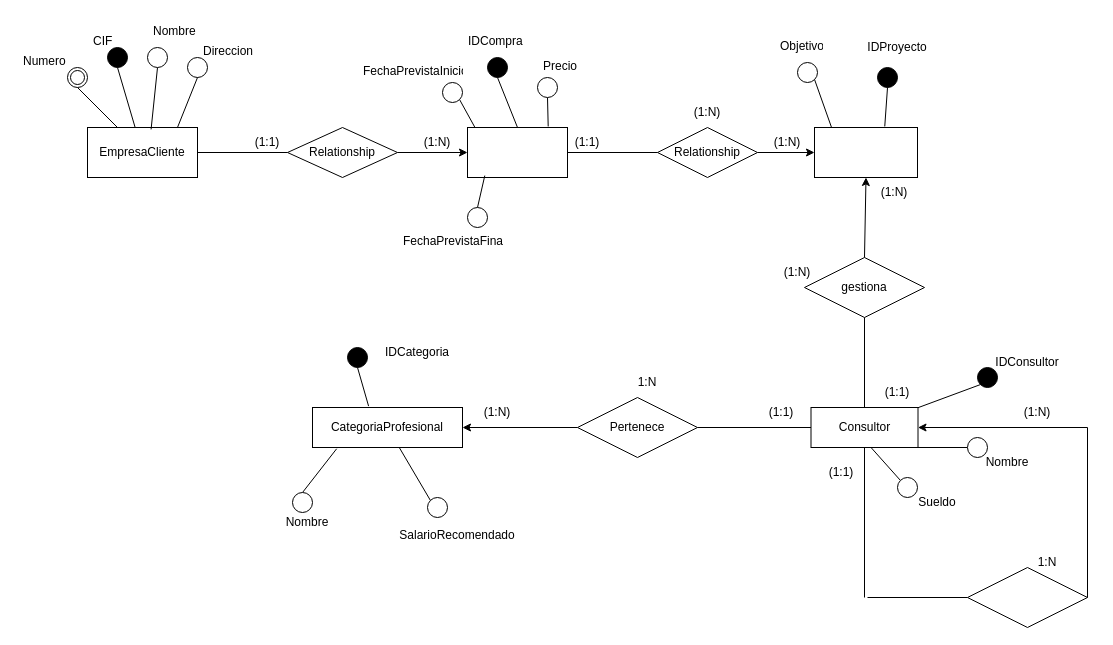
The diagram is 1113 pixels wide and 645 high, and some of its shapes have lost their labels. Each missing label, with the centre of its shape:
"Compra" goes at [517,152].
"es Responsable" goes at [1027,597].
"Proyecto" goes at [866,152].
